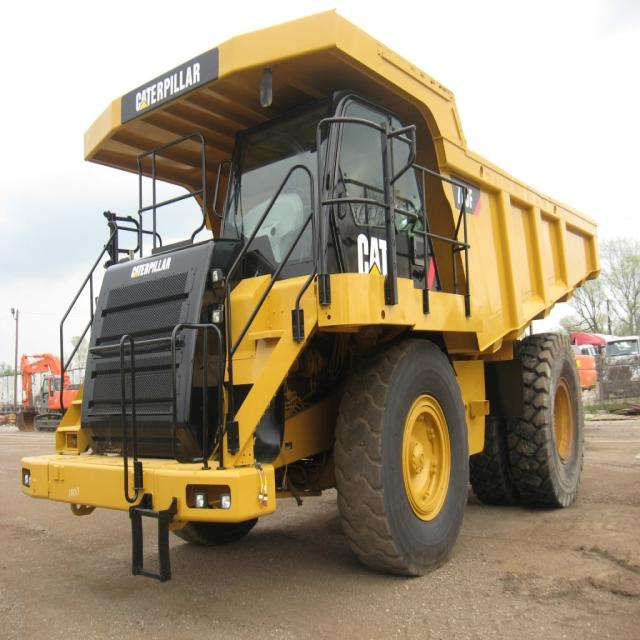dump_truck: (21, 6, 611, 573)
